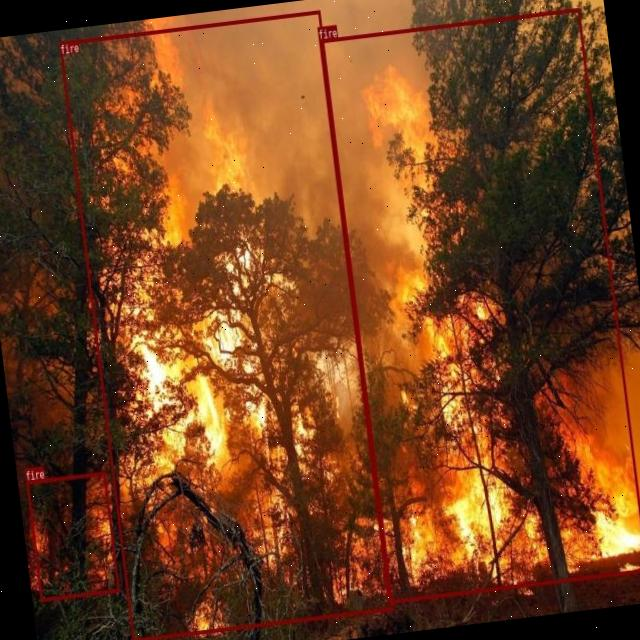fire: (58, 8, 393, 640), (319, 7, 640, 603), (26, 471, 120, 602)
